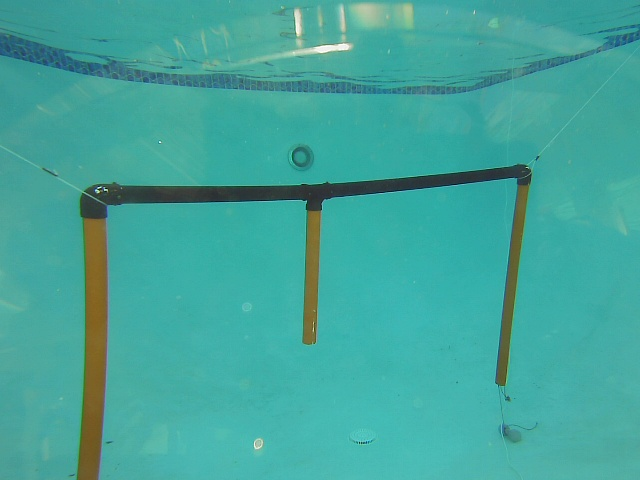Gate: (489, 180, 533, 390), (76, 210, 105, 480), (297, 202, 326, 342)
